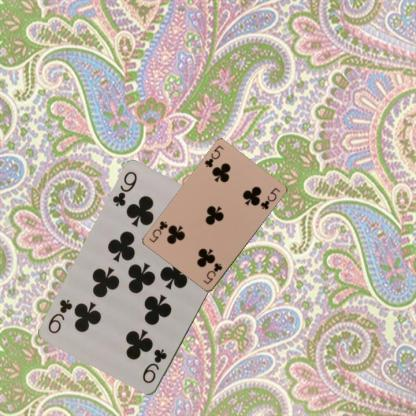5c: (202, 143, 225, 169), (200, 261, 223, 286)
9c: (110, 168, 138, 209), (140, 347, 169, 385)
